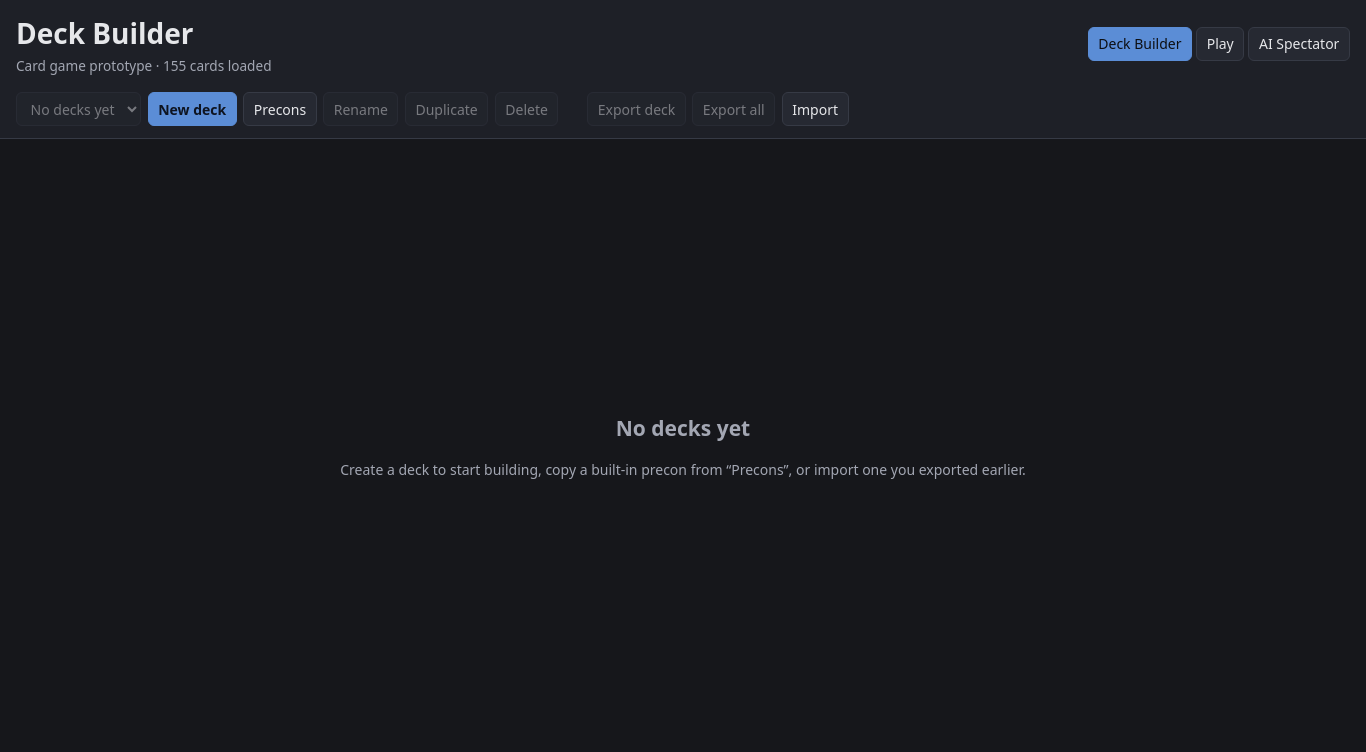
Test: the provenance of a deck the server built › warns how little of the deck the format leaves free
Step 1. Click the button "Play" → (1220, 44), box 1196,27 -> 1244,61
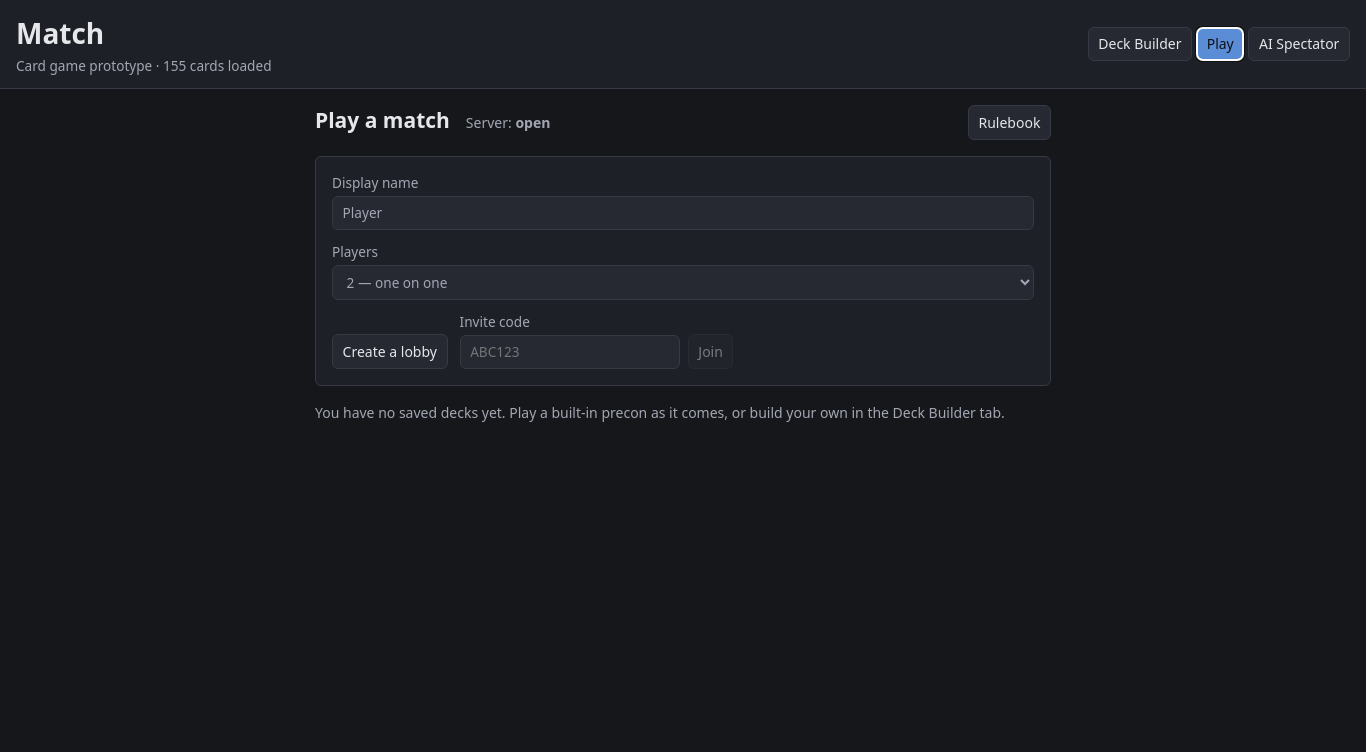
Step 2. Click the button "Create a lobby" → (390, 352), box 332,334 -> 448,369
(page scrolled)
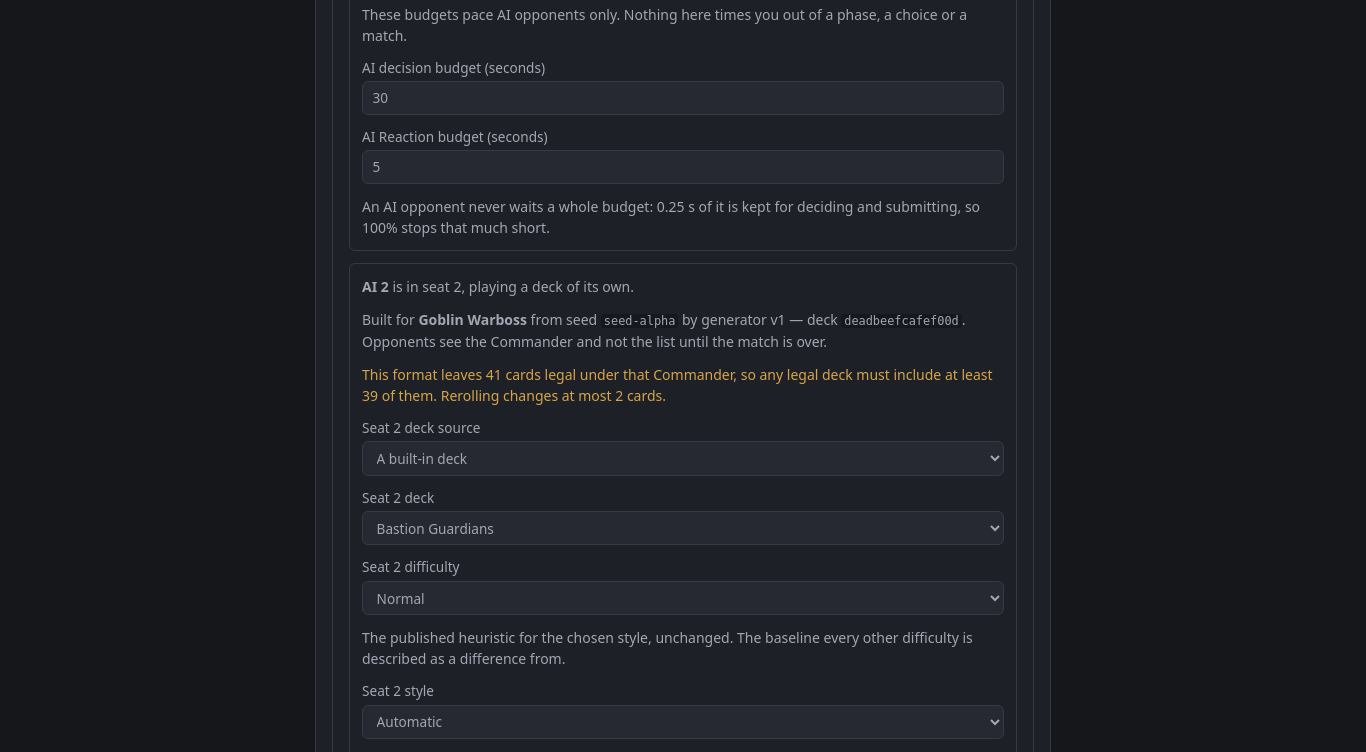
Expected: the text "at least 39 of them" is shown, 362,364 -> 1004,406
Expected: the text "changes at most 2 cards" is shown, 441,386 -> 666,405
